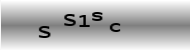1: (78, 14, 91, 28)
S: (62, 12, 76, 27), (38, 25, 51, 39)
c: (108, 21, 122, 34)
s: (91, 11, 103, 23)
